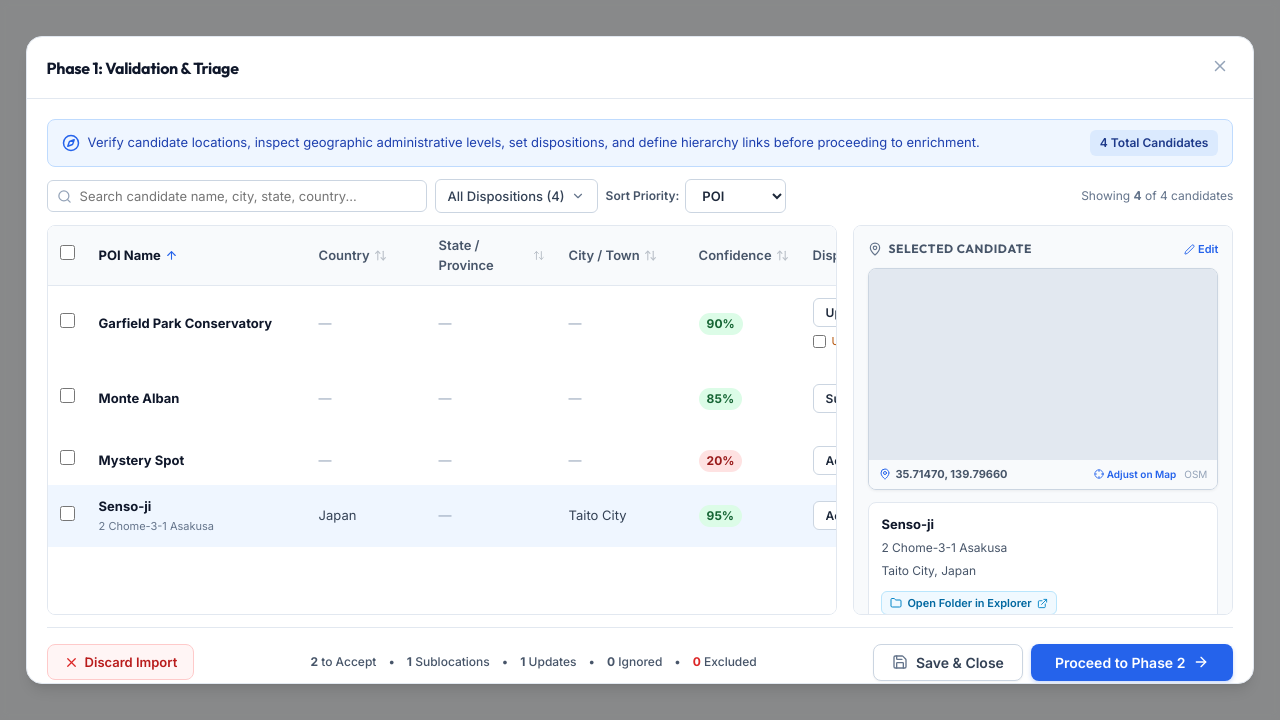
CSVTriageModal (Phase 1) › displays Pick on Map button when candidate has missing coordinates and allows picking
This screenshot has width=1280, height=720.
Note: Select cand-4 which has null coordinates
Step 1. Click the text "Mystery Spot" → (141, 460), box [99,452,184,468]
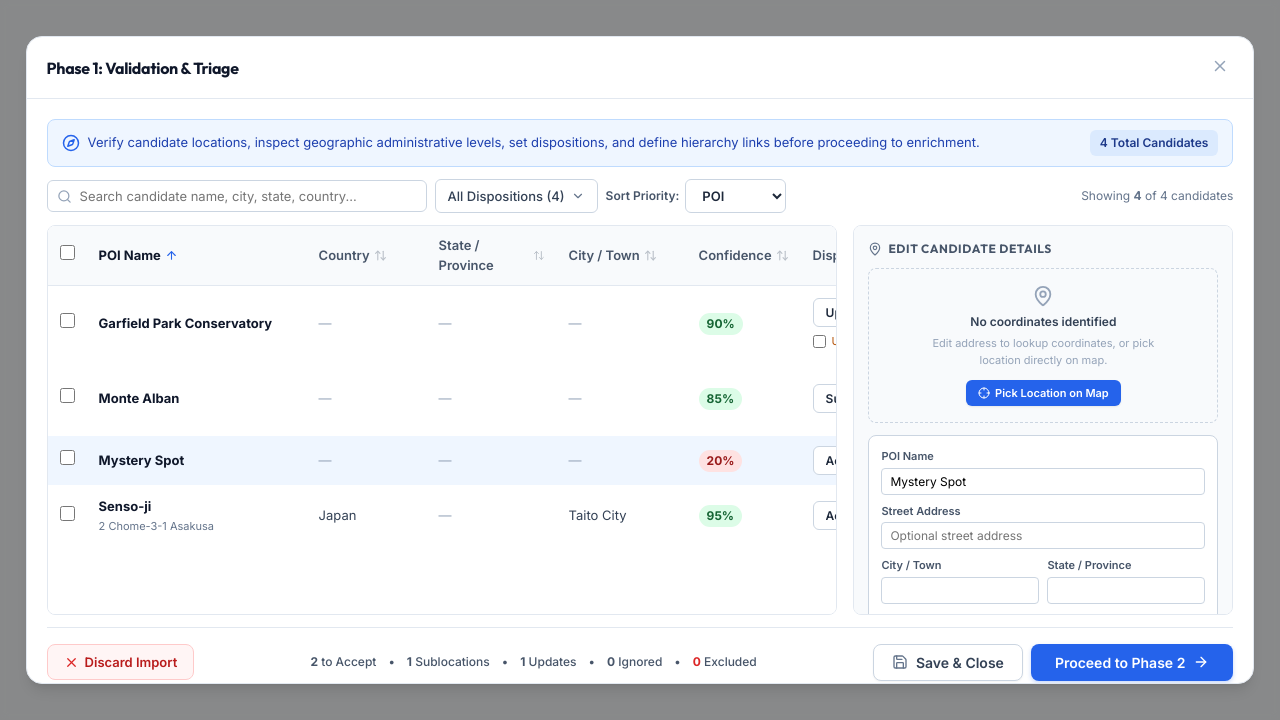
Check: the button with test id "pick-on-map-placeholder-btn" is shown
Note: Click Pick on Map
Step 2. Click the button with test id "pick-on-map-placeholder-btn" → (1043, 393), box [966,380,1121,406]
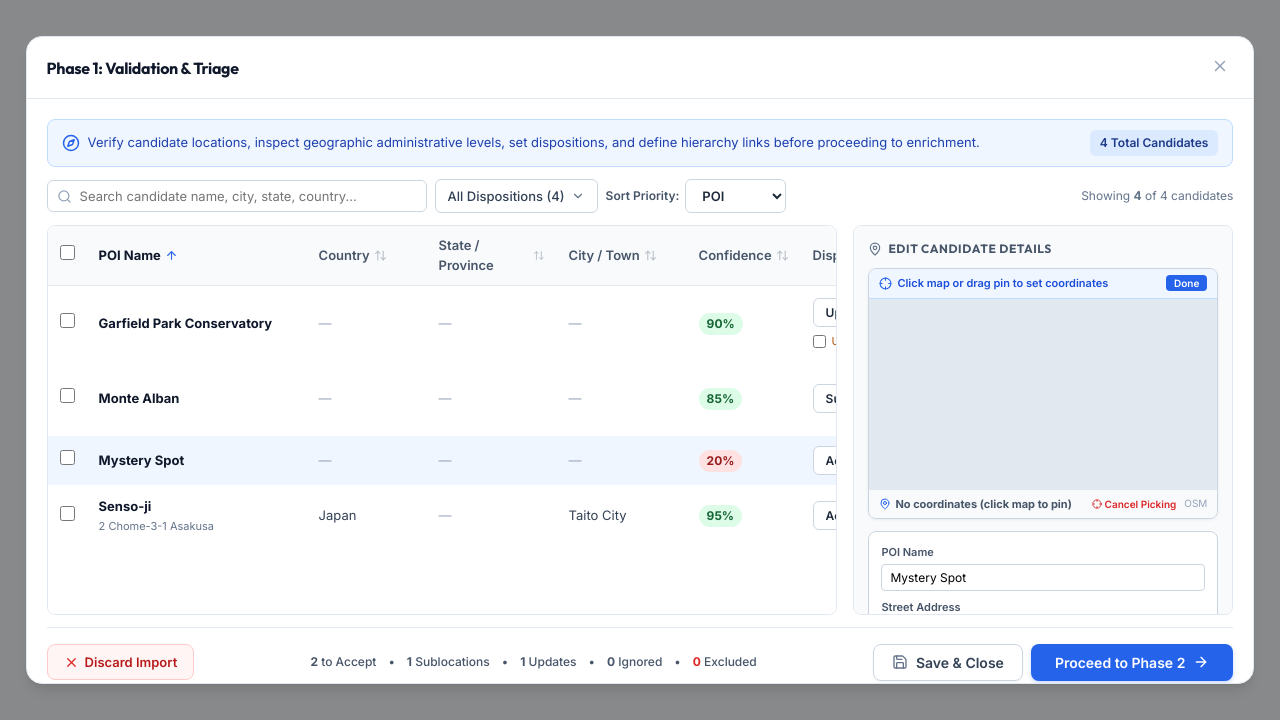
Check: the element with test id "candidate-mini-map-container" is shown, box [868,268,1218,519]
Check: the text "Click map or drag pin to set coordinates" is shown, box [879,275,1108,292]
